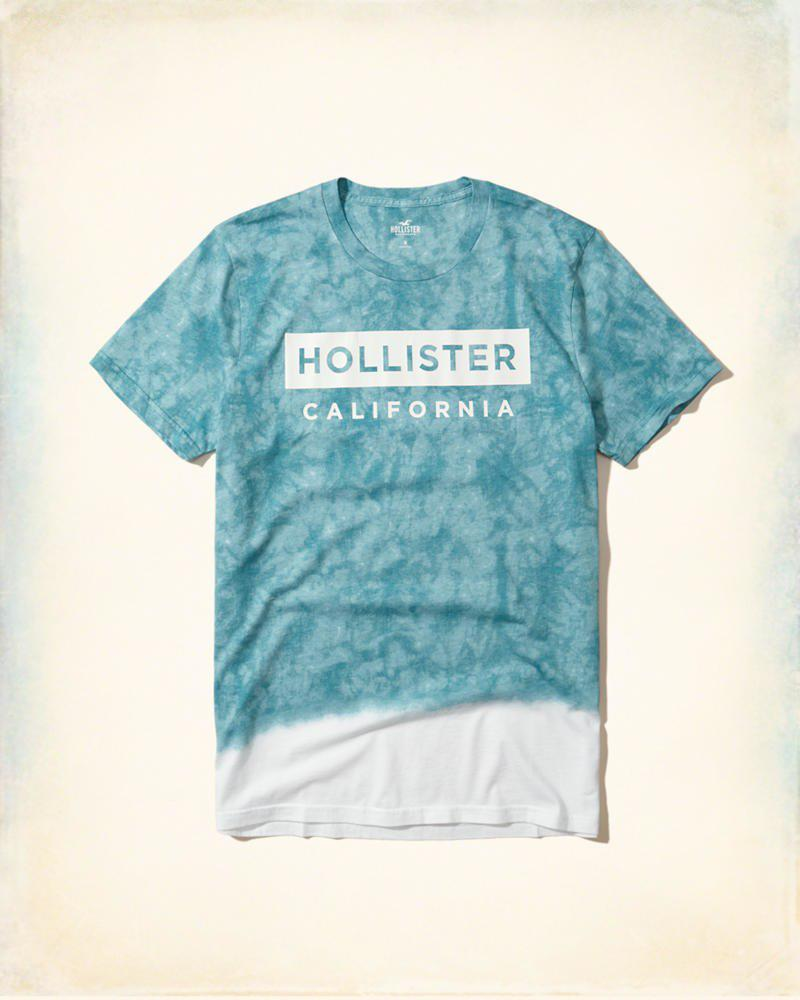teeshirt: (100, 157, 767, 919)
